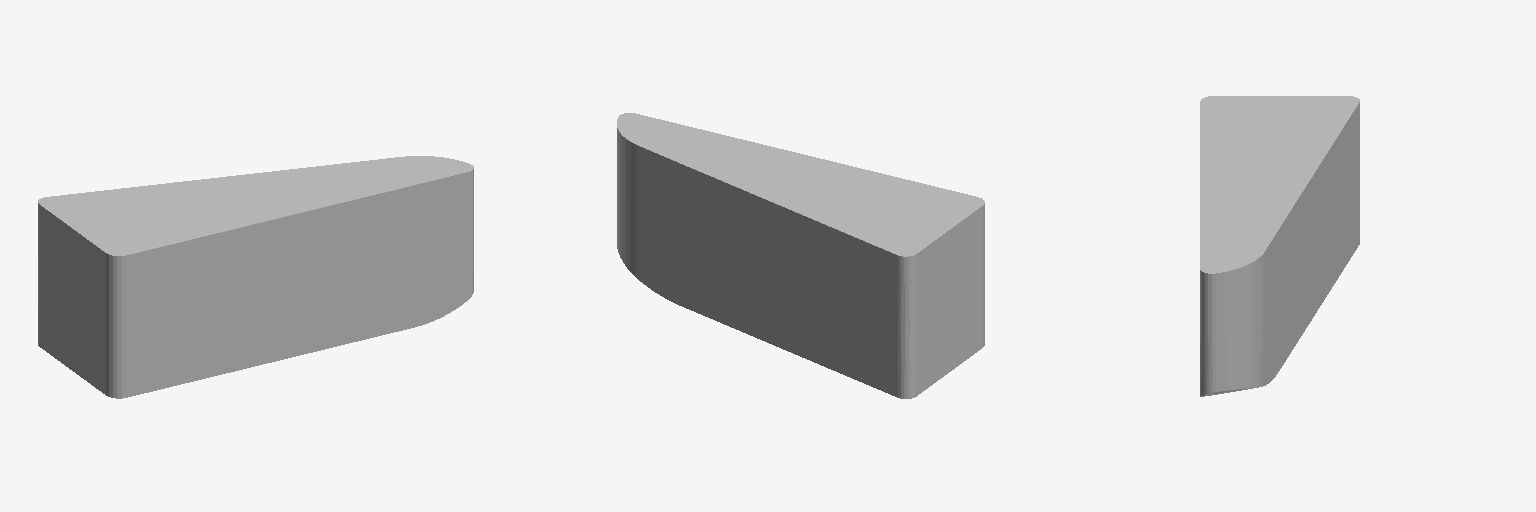
Rendered from MotorRight.obj.
3 renders of one model, left to right at view 1: azimuth 30°, elevation 25°; view 2: azimuth 150°, elevation 25°; view 3: azimuth 270°, elevation 25°, orthographic.
Visible parts, largest first — view 1: MotorRight; view 2: MotorRight; view 3: MotorRight.
Part boxes in pixels (x1,y1,x2,y2): MotorRight: (38,156,473,398); MotorRight: (617,113,984,398); MotorRight: (1200,96,1359,396).
Bounding box in the file's own units: 28.15 × 10.5 × 10.7.